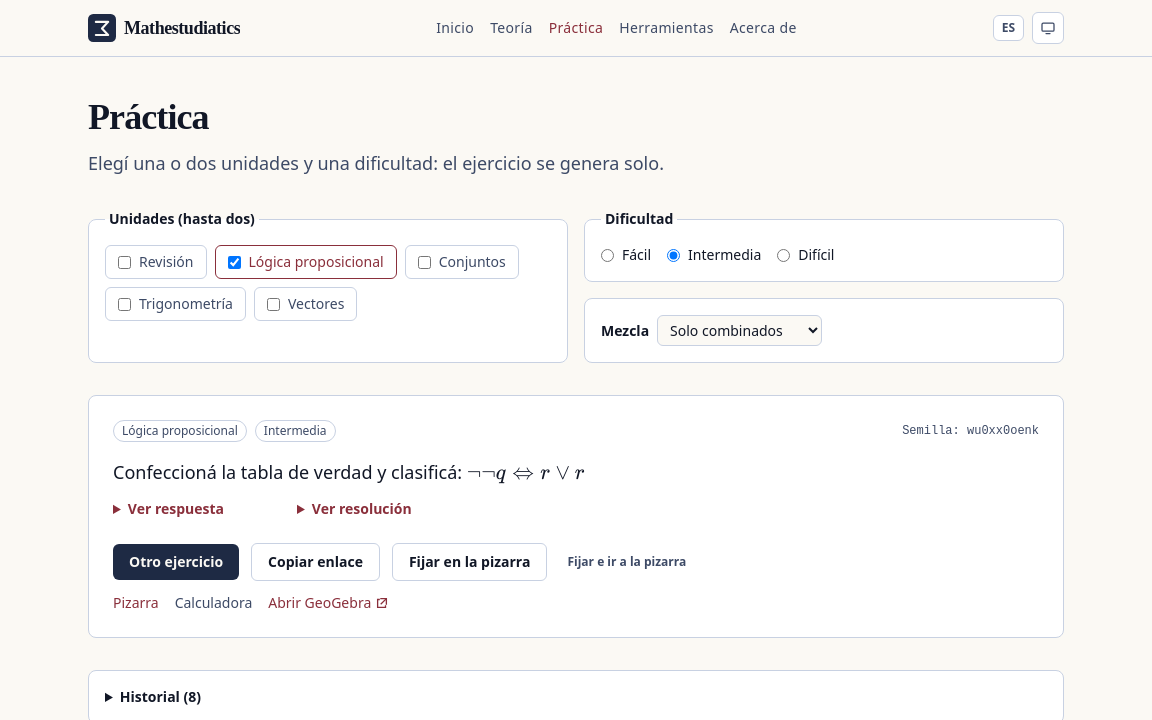
Scenario: practice page › combines two units and reports it
Check: the heading "Práctica" is shown, box [88, 97, 209, 137]
Click the checkbox labelled "Conjuntos": {"x": 424, "y": 262} [418, 256, 431, 268]
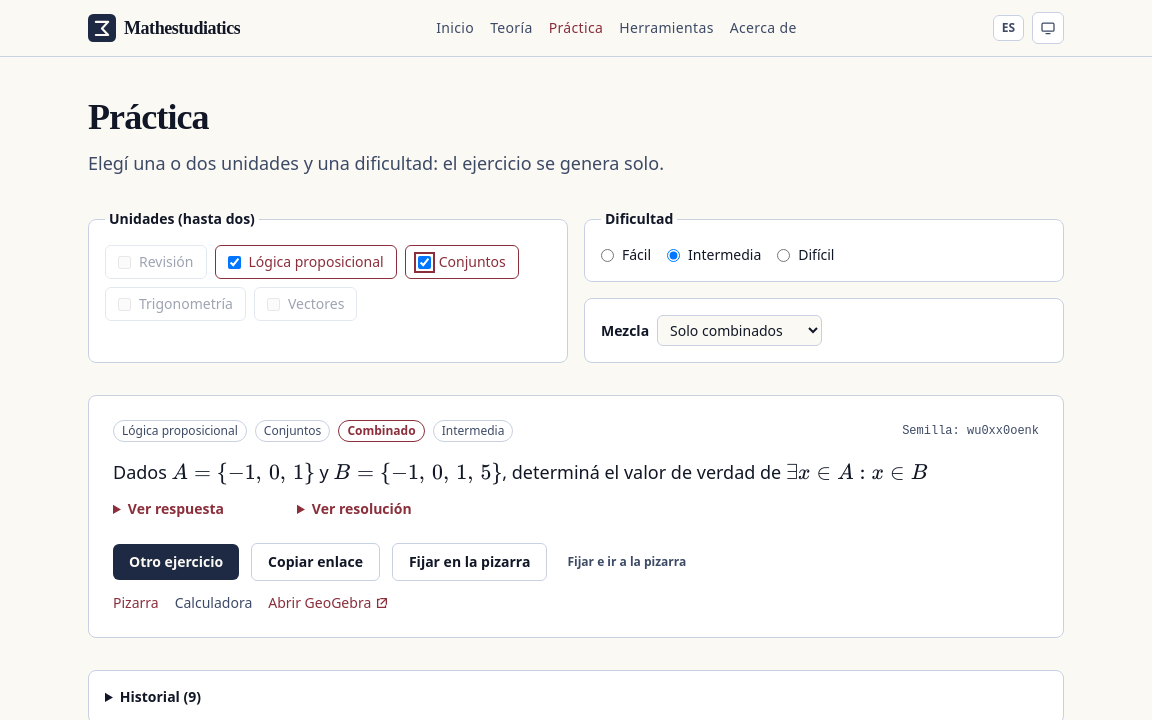
Check: the text "Combinado" is shown, box [338, 420, 425, 442]
